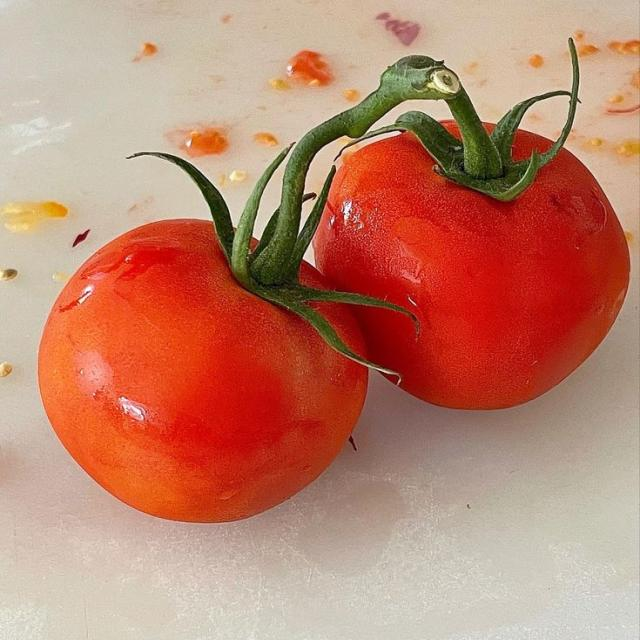tomato: (39, 220, 367, 522), (315, 134, 629, 409)
